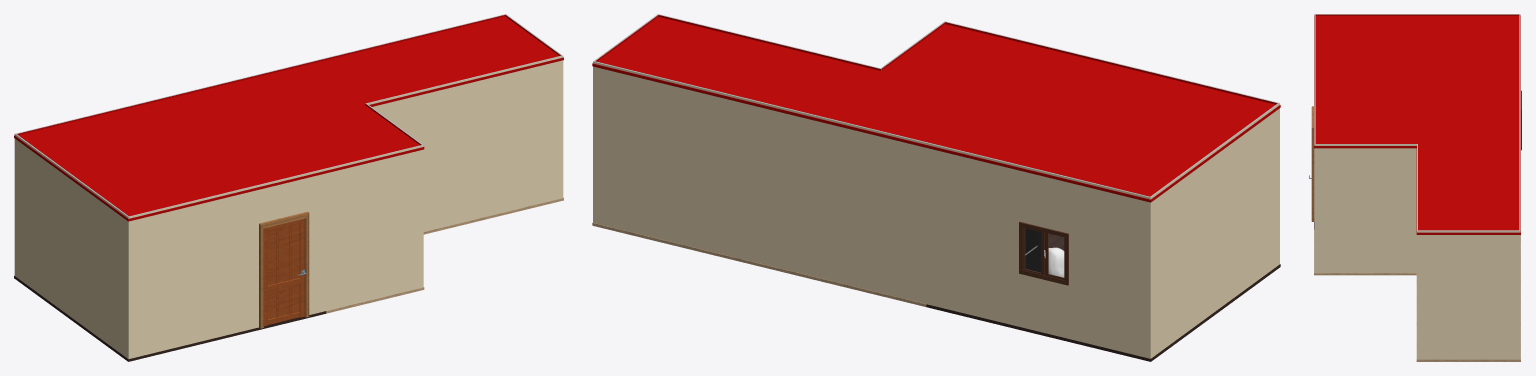
File: ProcTHOR-Train-144.glb
3 views of the same model, side by side, from view 1: azimuth 30°, elevation 25°; view 2: azimuth 150°, elevation 25°; view 3: azimuth 270°, elevation 25° (orthographic). The views are drawn at different scales.
Visible parts, largest first — view 1: WallInside#wall|exterior|6.23|6.23|10.38|6.23, Ceiling#room|2|c, Ceiling#room|3|c, WallInside#wall|exterior|0.00|4.15|4.15|4.15, WallInside#wall|exterior|10.38|2.08|10.38|6.23, WallInside#wall|exterior|4.15|6.23|6.23|6.23, Doorway_10, Floor#room|2|f, WallInside#wall|3|0.00|2.08|6.23|2.08, Floor#room|3|f, WallInside#wall|2|6.23|2.08|10.38|2.08; view 2: WallInside#wall|exterior|0.00|2.08|6.23|2.08, WallInside#wall|exterior|6.23|2.08|10.38|2.08, Ceiling#room|2|c, Ceiling#room|3|c, WallInside#wall|exterior|10.38|2.08|10.38|6.23, Floor#room|2|f, Window_Slider_36x36, Floor#room|3|f, WallInside#wall|3|0.00|4.15|4.15|4.15, WallInside#wall|2|6.23|6.23|10.38|6.23, Fridge_27; view 3: Ceiling#room|3|c, Ceiling#room|2|c, WallInside#wall|exterior|0.00|2.08|0.00|4.15, WallInside#wall|exterior|4.15|4.15|4.15|6.23, Floor#room|3|f, Doorway_10, WallInside#wall|2|10.38|2.08|10.38|6.23, WallInside#wall|exterior|0.00|2.08|6.23|2.08, WallInside#wall|exterior|10.38|2.08|10.38|6.23.
Part boxes in pixels (x1,y1,x2,y2): WallInside#wall|exterior|6.23|6.23|10.38|6.23: [128, 169, 324, 358]; Ceiling#room|2|c: [14, 88, 326, 221]; Ceiling#room|3|c: [211, 16, 563, 173]; WallInside#wall|exterior|0.00|4.15|4.15|4.15: [367, 55, 563, 231]; WallInside#wall|exterior|10.38|2.08|10.38|6.23: [14, 134, 128, 358]; WallInside#wall|exterior|4.15|6.23|6.23|6.23: [324, 145, 423, 311]; Doorway_10: [259, 211, 309, 328]; Floor#room|2|f: [14, 276, 326, 361]; WallInside#wall|3|0.00|2.08|6.23|2.08: [212, 14, 506, 87]; Floor#room|3|f: [326, 198, 563, 313]; WallInside#wall|2|6.23|2.08|10.38|2.08: [16, 86, 212, 135]; WallInside#wall|exterior|0.00|2.08|6.23|2.08: [593, 61, 927, 304]; WallInside#wall|exterior|6.23|2.08|10.38|2.08: [927, 143, 1150, 358]; Ceiling#room|2|c: [926, 51, 1280, 202]; Ceiling#room|3|c: [592, 17, 1055, 147]; WallInside#wall|exterior|10.38|2.08|10.38|6.23: [1150, 103, 1279, 358]; Floor#room|2|f: [926, 233, 1280, 361]; Window_Slider_36x36: [1019, 222, 1068, 285]; Floor#room|3|f: [592, 222, 926, 306]; WallInside#wall|3|0.00|4.15|4.15|4.15: [658, 14, 880, 70]; WallInside#wall|2|6.23|6.23|10.38|6.23: [1056, 49, 1278, 104]; Fridge_27: [1025, 228, 1040, 272]; Ceiling#room|3|c: [1314, 102, 1520, 234]; Ceiling#room|2|c: [1314, 15, 1520, 102]; WallInside#wall|exterior|0.00|2.08|0.00|4.15: [1417, 230, 1520, 359]; WallInside#wall|exterior|4.15|4.15|4.15|6.23: [1314, 144, 1416, 272]; Floor#room|3|f: [1314, 230, 1520, 361]; Doorway_10: [1309, 106, 1314, 221]; WallInside#wall|2|10.38|2.08|10.38|6.23: [1315, 14, 1519, 15]; WallInside#wall|exterior|0.00|2.08|6.23|2.08: [1520, 100, 1520, 359]; WallInside#wall|exterior|10.38|2.08|10.38|6.23: [1315, 14, 1518, 14].
Size of what is drawn, in the model's own units: 10.42 by 2.93 by 4.32.
145 materials, 55 textured.
